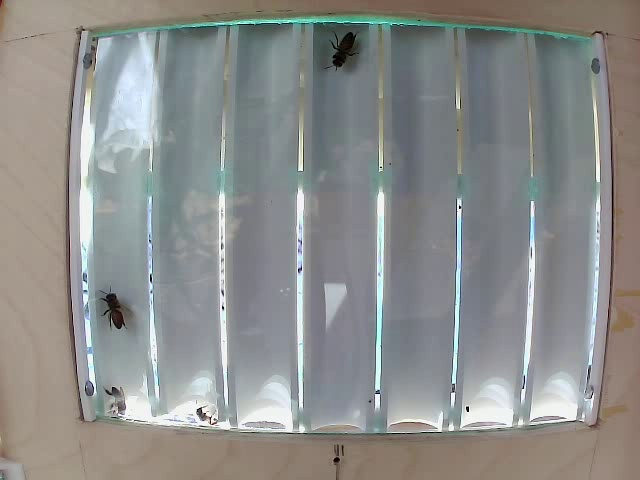bee: (323, 27, 375, 78), (94, 278, 130, 336)
